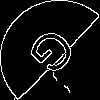G: (24, 24, 87, 85)
